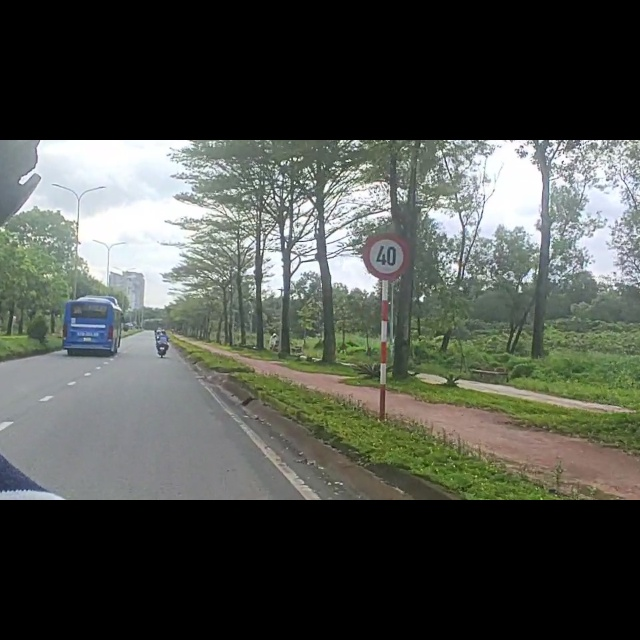Tốc độ tối đa cho phép 40km/h: (362, 234, 410, 281)
